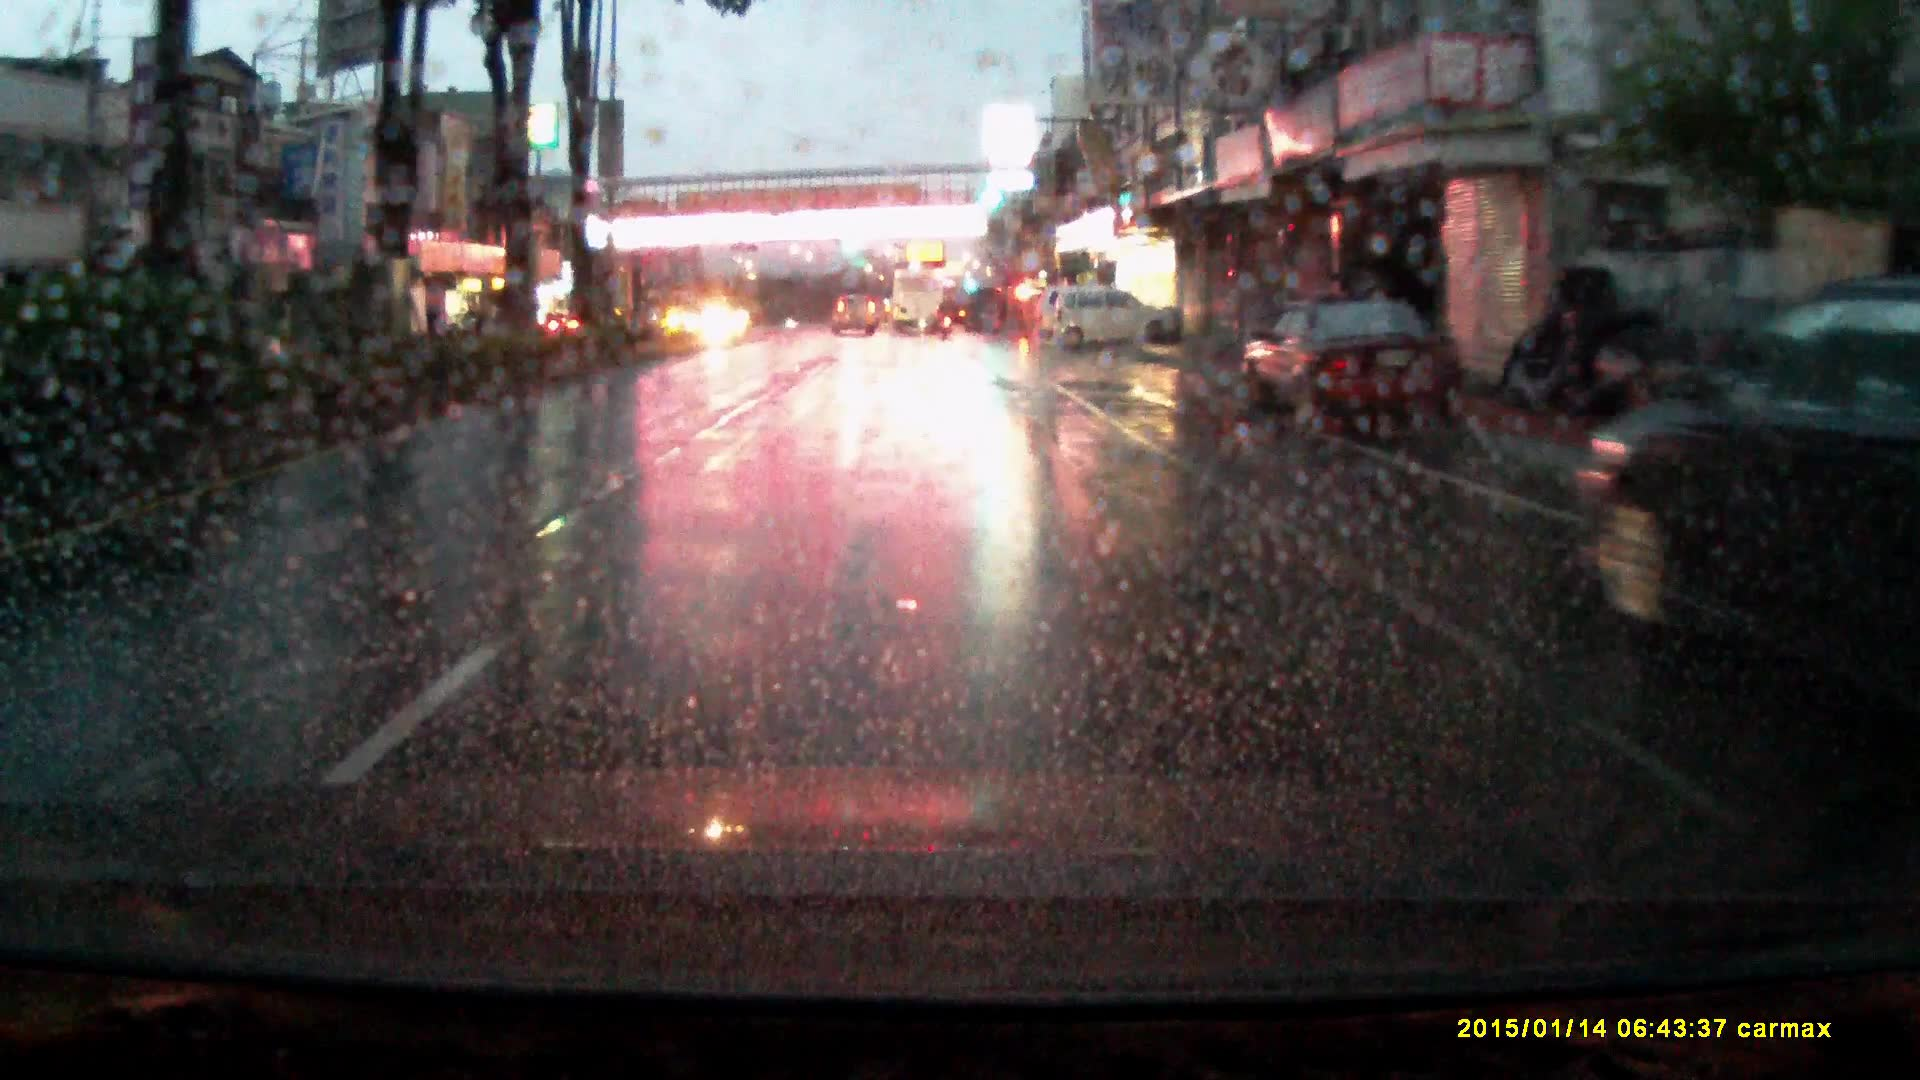vehicle: (1575, 323, 1920, 731), (1244, 301, 1473, 440), (1058, 286, 1180, 356), (891, 270, 947, 335), (1034, 287, 1073, 342), (833, 295, 880, 338)
